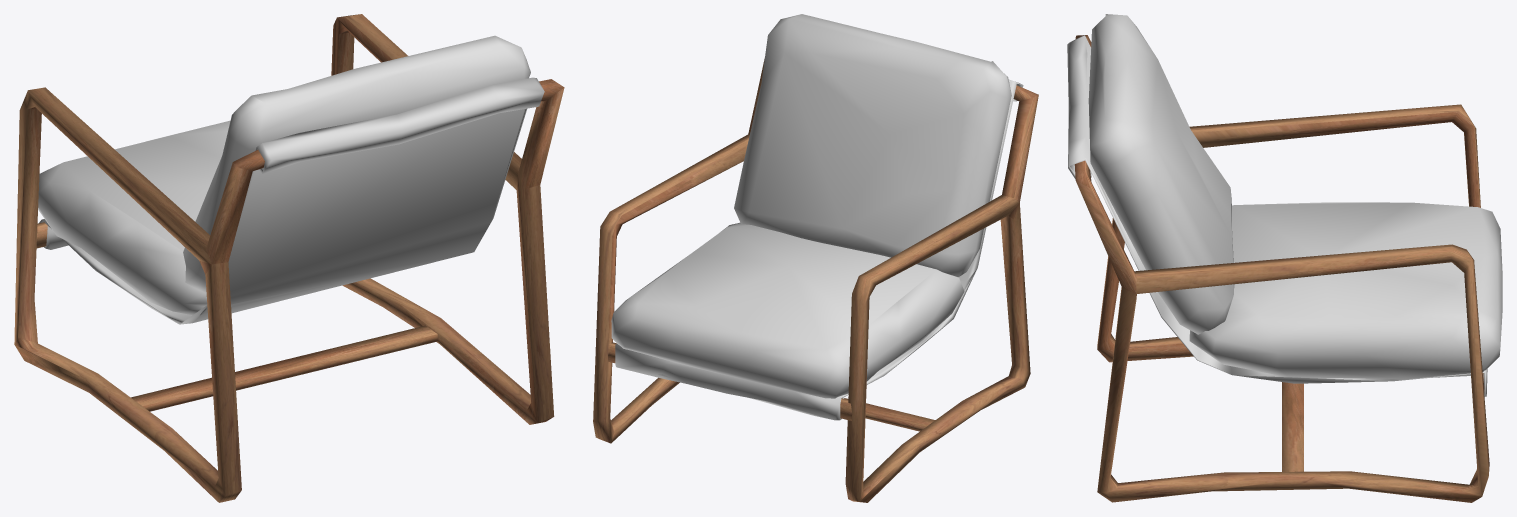
File: poltrona_low.fbx
3 renders of one model, left to right at view 1: azimuth 30°, elevation 25°; view 2: azimuth 150°, elevation 25°; view 3: azimuth 270°, elevation 25°, orthographic. The views are drawn at different scales.
Parts seen in each view (by area): view 1: Aster Luxury Armchair; view 2: Aster Luxury Armchair; view 3: Aster Luxury Armchair.
Boxes of the visible parts, x1,y1,x2,y2 form: Aster Luxury Armchair: (14, 14, 564, 502); Aster Luxury Armchair: (593, 14, 1038, 502); Aster Luxury Armchair: (1067, 14, 1502, 502).
Bounding box in the file's own units: 92.52 × 106 × 115.
